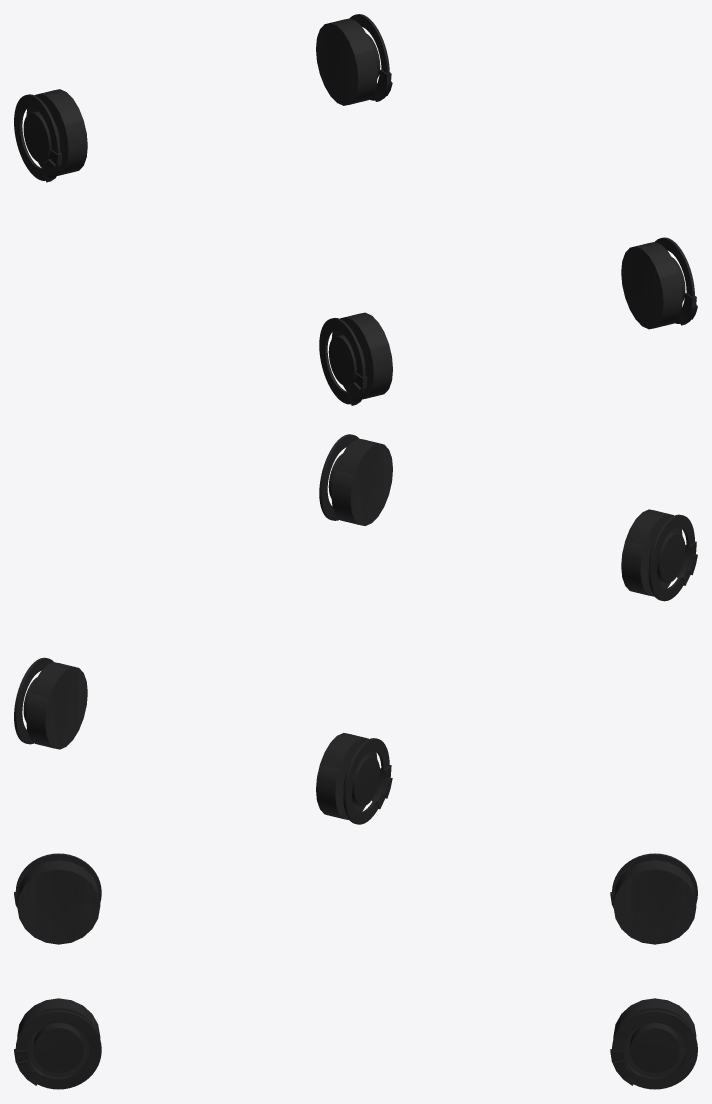
File: rcfBrakeDiscs.obj
3 views of the same model, one above another, from view 1: azimuth 30°, elevation 25°; view 2: azimuth 150°, elevation 25°; view 3: azimuth 270°, elevation 25° (orthographic). The views are drawn at different scales.
Parts seen in each view (by area): view 1: recfBrakeDiscs; view 2: recfBrakeDiscs; view 3: recfBrakeDiscs.
Boxes of the visible parts, x1,y1,x2,y2 form: recfBrakeDiscs: [14, 14, 697, 405]; recfBrakeDiscs: [14, 434, 697, 824]; recfBrakeDiscs: [14, 853, 697, 1089].
Size of the model in its own units: 167 by 37.55 by 298.
1 material, 1 textured.
